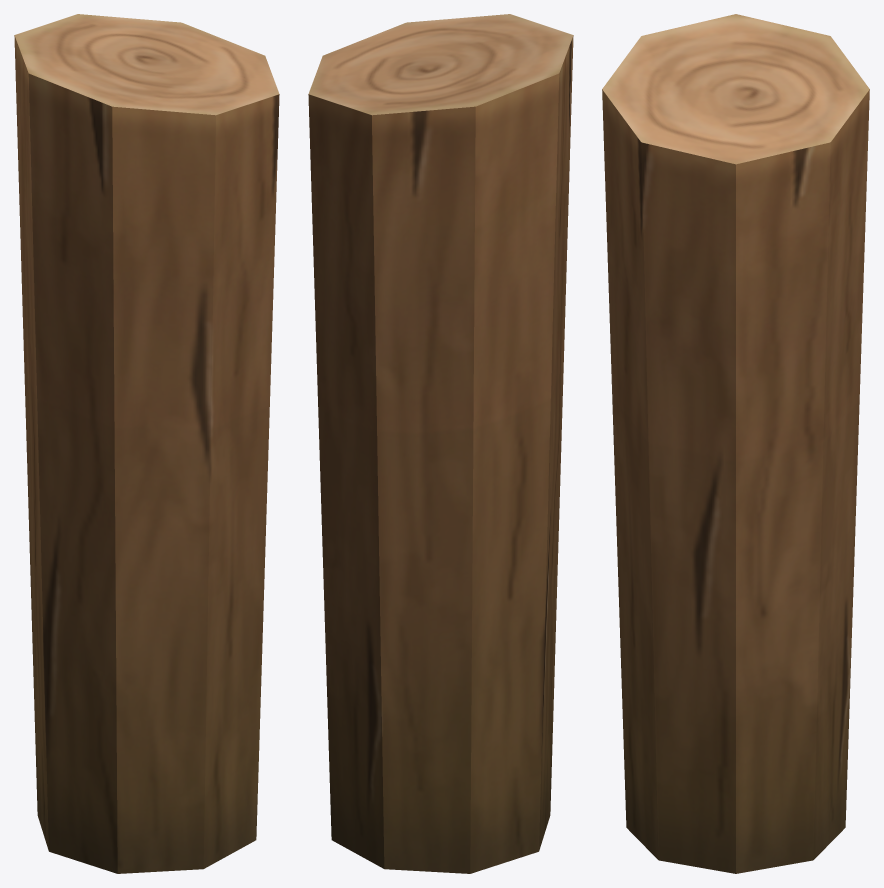
3 views of the same model, side by side, from view 1: azimuth 30°, elevation 25°; view 2: azimuth 150°, elevation 25°; view 3: azimuth 270°, elevation 25° (orthographic). The views are drawn at different scales.
Parts seen in each view (by area): view 1: part_04a:Mesh; view 2: part_04a:Mesh; view 3: part_04a:Mesh.
Part boxes in pixels (<box>): part_04a:Mesh: <box>14,14,279,873</box>; part_04a:Mesh: <box>308,14,573,873</box>; part_04a:Mesh: <box>602,14,869,873</box>.
Bounding box in the file's own units: 0.9108 × 2.88 × 0.9226.
